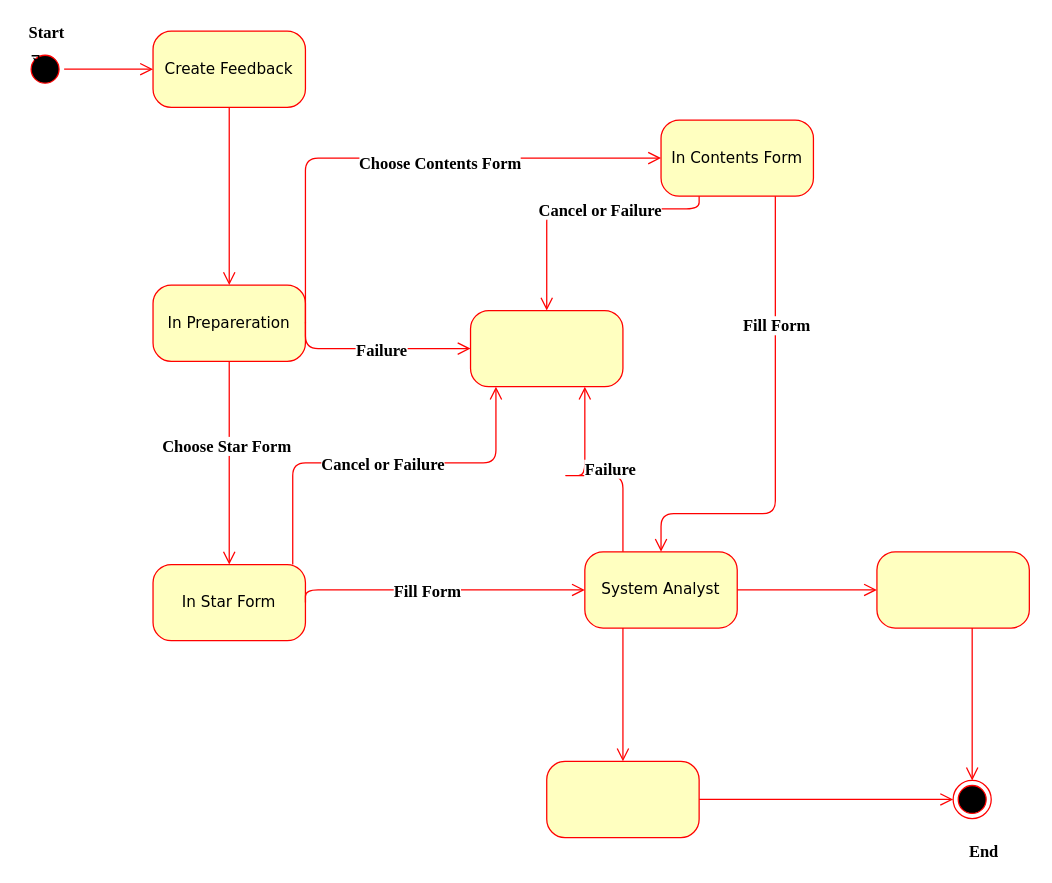
This 1052x883 diagram has some shape labels left out. Here are the shapes that lost their labels. From the top down, the centre of each, then its label:
the point at 546,348: Out of Service
the point at 952,589: Denied
the point at 622,799: Admited
